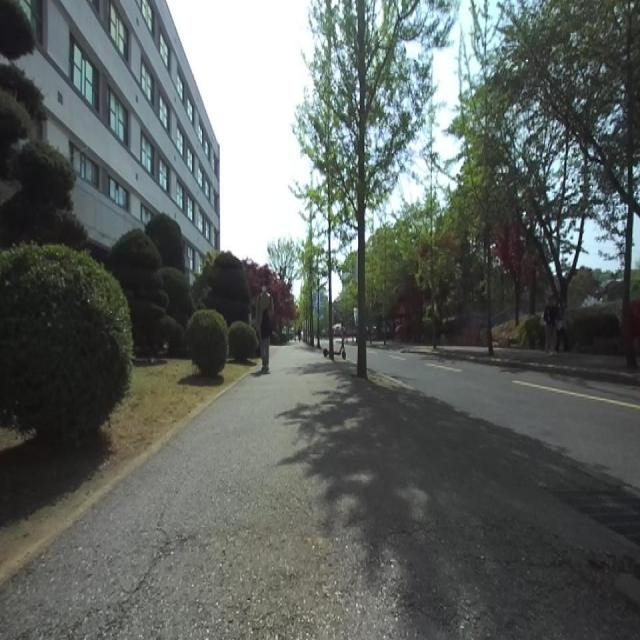sidewalk: (0, 343, 640, 640)
